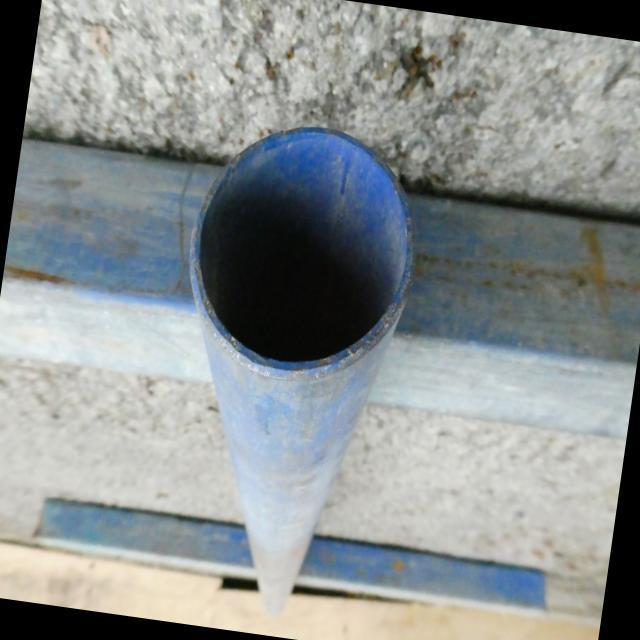pipe: (191, 125, 413, 370)
